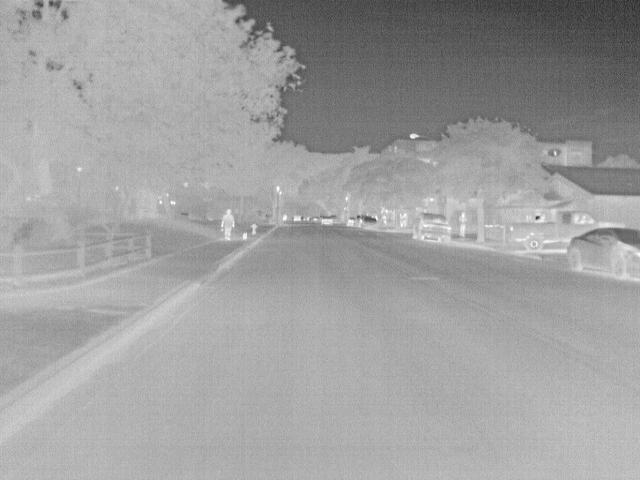car: (502, 209, 629, 252), (561, 226, 637, 280), (414, 211, 453, 244), (360, 216, 382, 232), (354, 213, 368, 229), (346, 214, 358, 228), (320, 215, 335, 226)
person: (219, 206, 237, 241), (456, 210, 469, 240)
